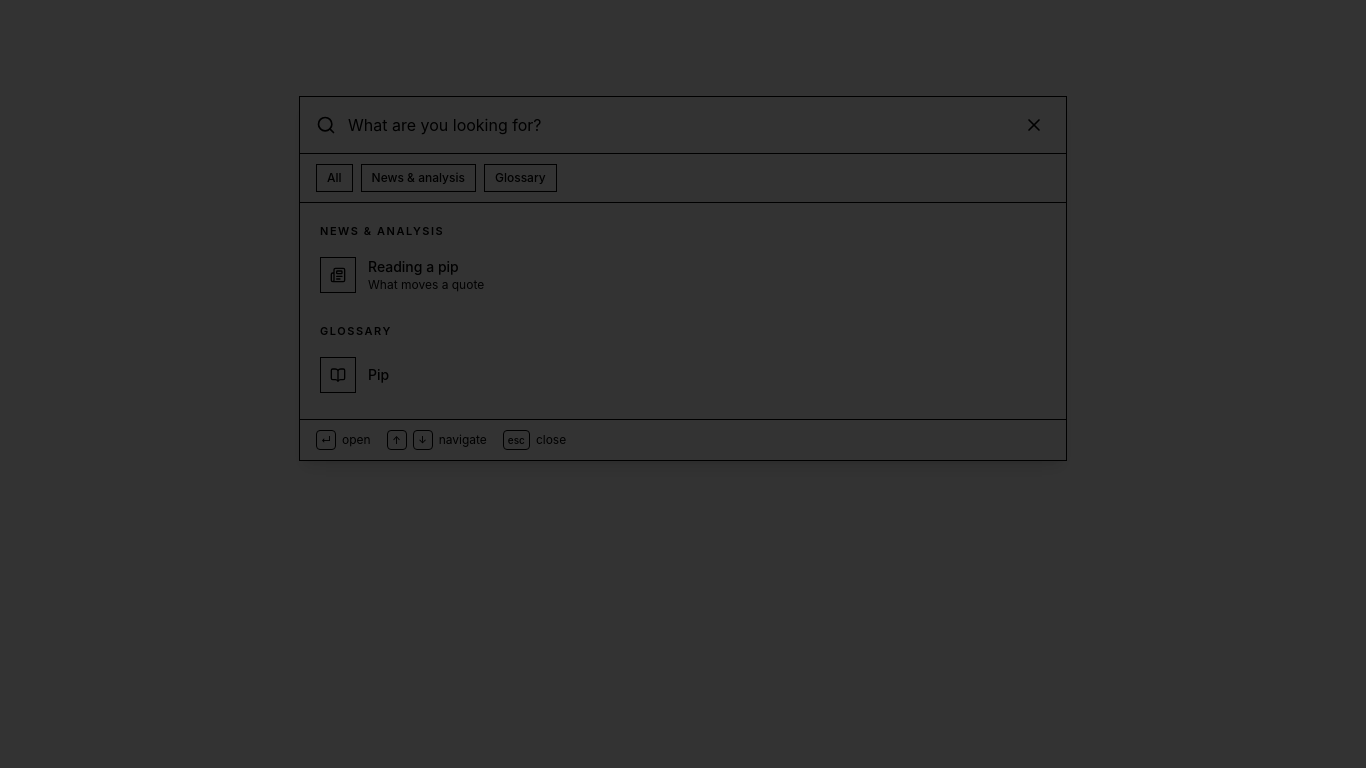
Test: CommandPalette › filters by category from the chip row, and All brings everything back
Click the button "Glossary": {"x": 520, "y": 178} [484,164,557,192]
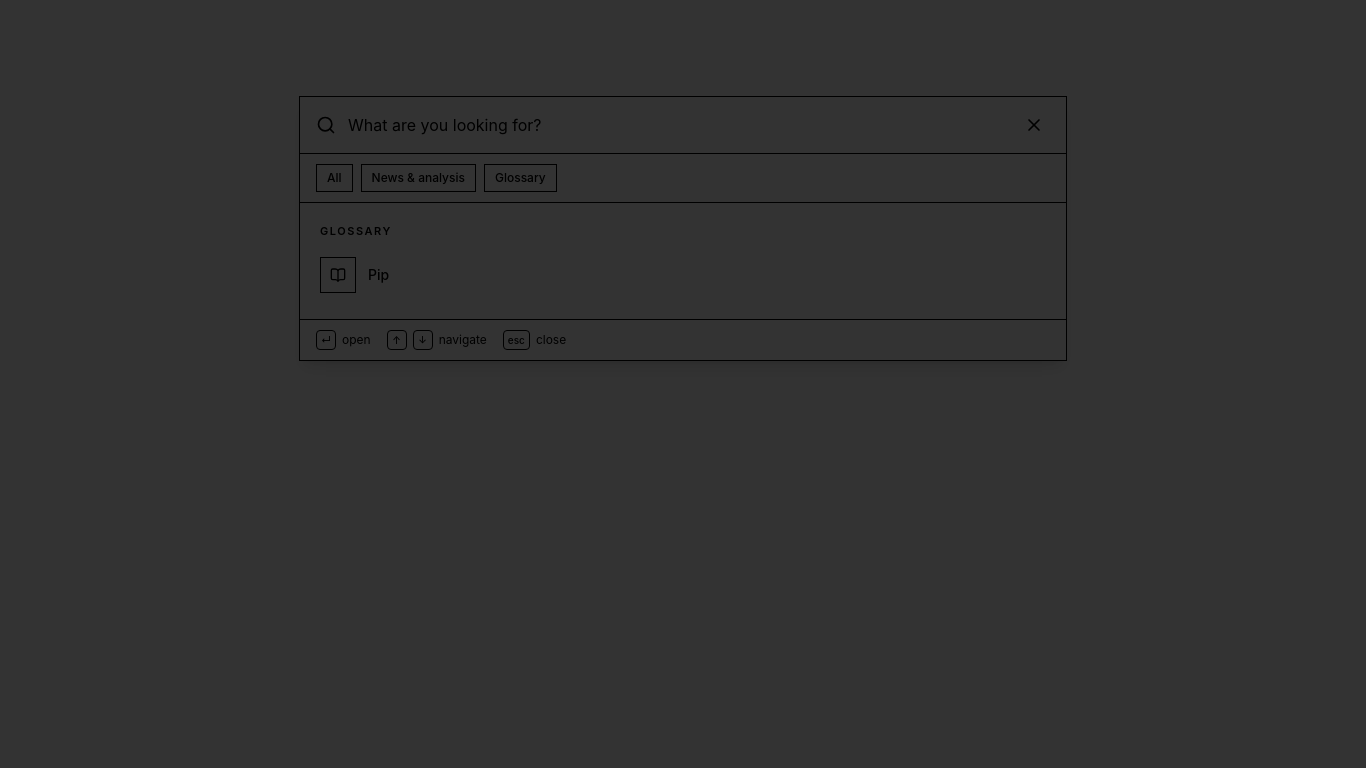
expect the text "Pip" is shown: met, box [368,266,389,283]
expect the option "Reading a pip" is gone: met
Click the button "All": {"x": 334, "y": 178} [316,164,353,192]
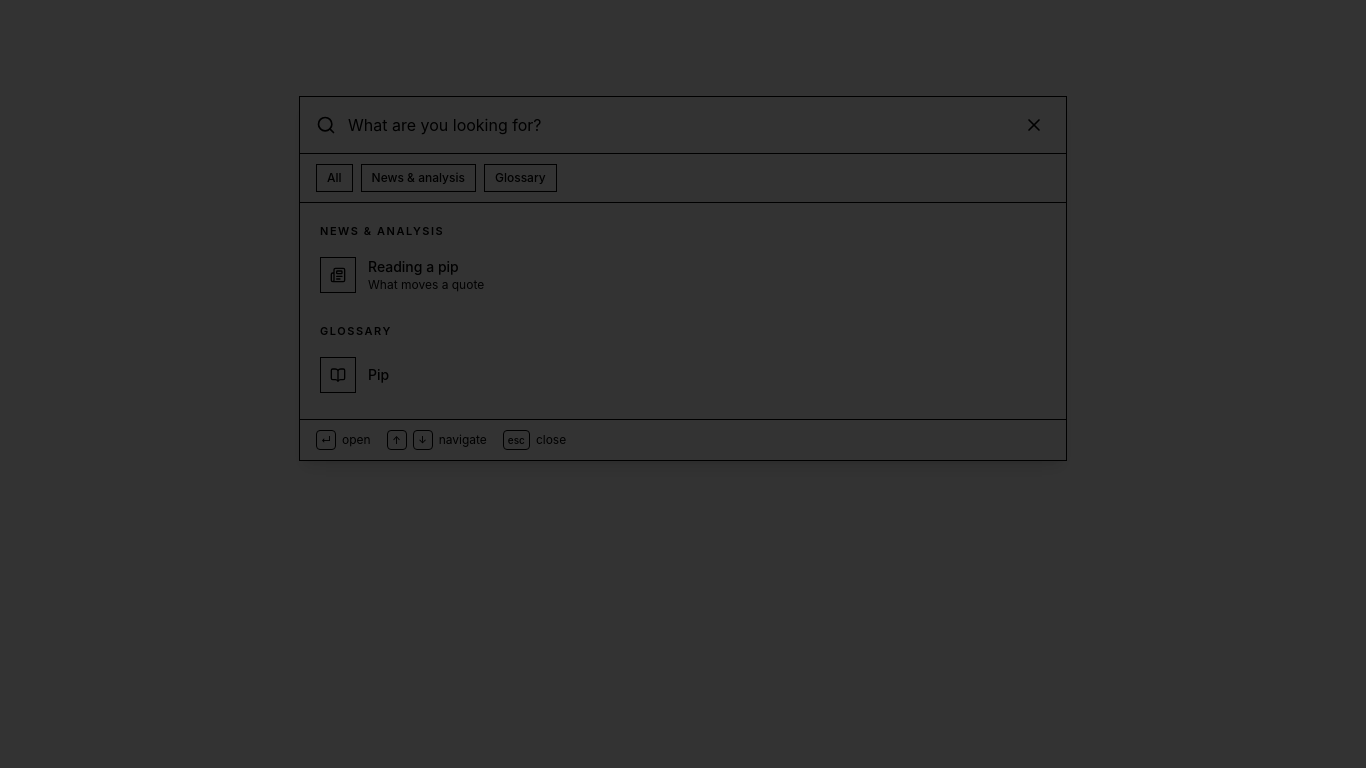
expect the text "Reading a pip" is shown: met, box [368,258,459,275]
